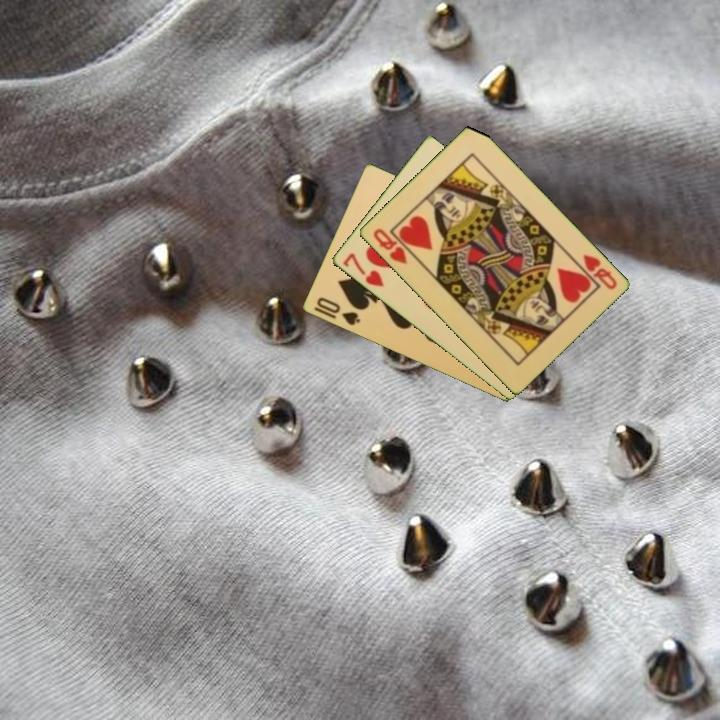10s: (313, 294, 363, 329)
7h: (339, 249, 387, 290)
Qh: (369, 225, 410, 267), (579, 251, 620, 293)
